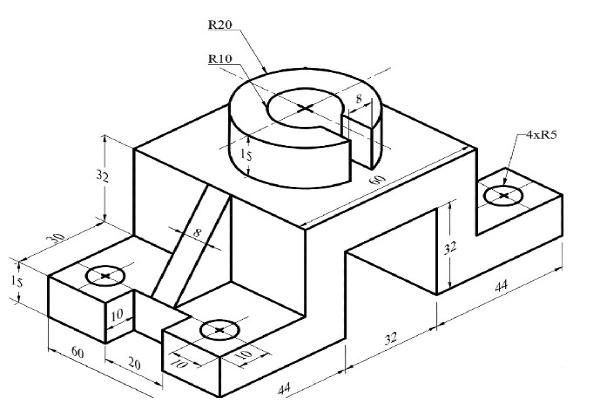dimensions: (525, 123, 565, 144), (204, 48, 238, 67), (36, 227, 69, 246), (205, 15, 238, 34), (91, 162, 117, 186), (65, 341, 91, 364), (122, 356, 148, 375), (168, 357, 195, 375), (381, 328, 404, 349), (437, 239, 462, 258), (6, 271, 27, 292), (490, 275, 512, 295), (366, 173, 391, 189), (232, 349, 256, 365), (109, 303, 129, 322), (352, 91, 369, 108), (277, 379, 293, 397), (238, 147, 256, 163), (193, 226, 206, 242)
